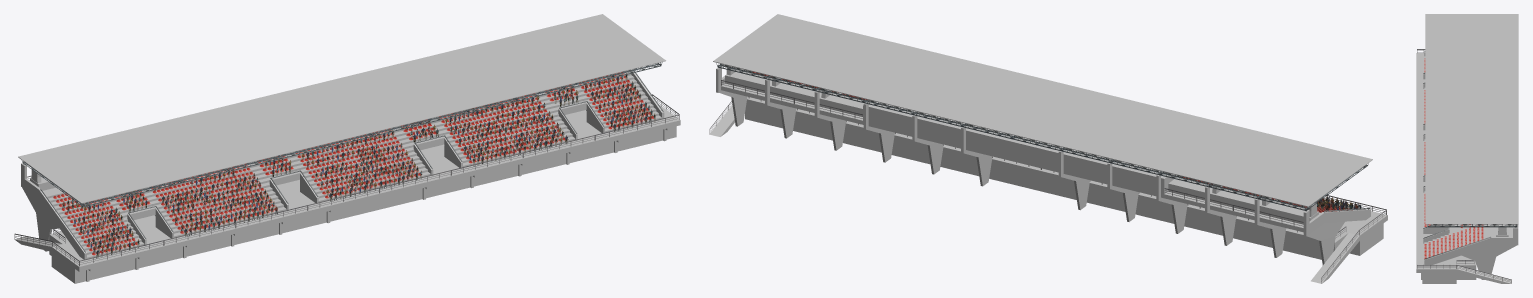
File: GrandStand-04.fbx
The picture shows the model from 3 angles, left to right: view 1: azimuth 30°, elevation 25°; view 2: azimuth 150°, elevation 25°; view 3: azimuth 270°, elevation 25°; orthographic projection. The views are drawn at different scales.
Visible parts, largest first — view 1: GrandStand-04, Audience; view 2: GrandStand-04; view 3: GrandStand-04.
Boxes of the visible parts, bbox=[...] form: GrandStand-04: bbox=[14, 14, 680, 283]; Audience: bbox=[62, 73, 655, 258]; GrandStand-04: bbox=[709, 14, 1387, 283]; GrandStand-04: bbox=[1416, 14, 1518, 283].
Bounding box in the file's own units: 12560 × 1544 × 2517.
